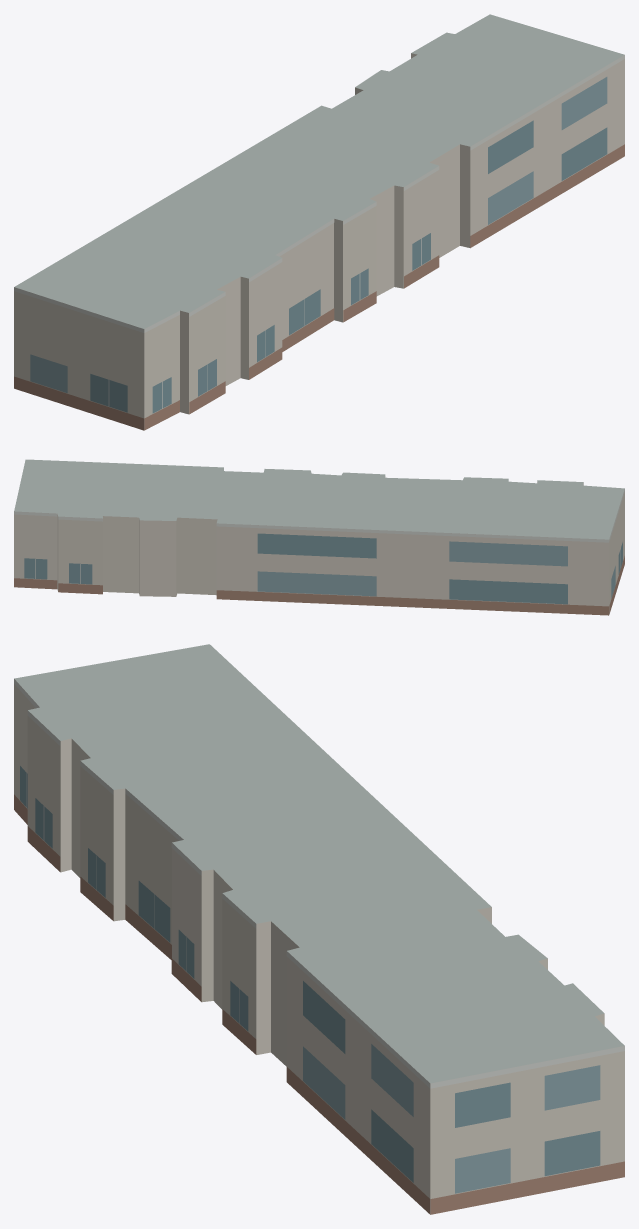
File: survey-upis-32498217.glb
3 views of the same model, one above another, from view 1: azimuth 30°, elevation 25°; view 2: azimuth 150°, elevation 25°; view 3: azimuth 270°, elevation 25° (orthographic). The views are drawn at different scales.
Visible parts, largest first — view 1: survey-upis-32498217.tmp; view 2: survey-upis-32498217.tmp; view 3: survey-upis-32498217.tmp.
Part boxes in pixels (x1,y1,x2,y2): survey-upis-32498217.tmp: (14,14,624,430); survey-upis-32498217.tmp: (14,459,624,615); survey-upis-32498217.tmp: (14,644,624,1214).
Bounding box in the file's own units: 43.78 × 6.1 × 25.72.
